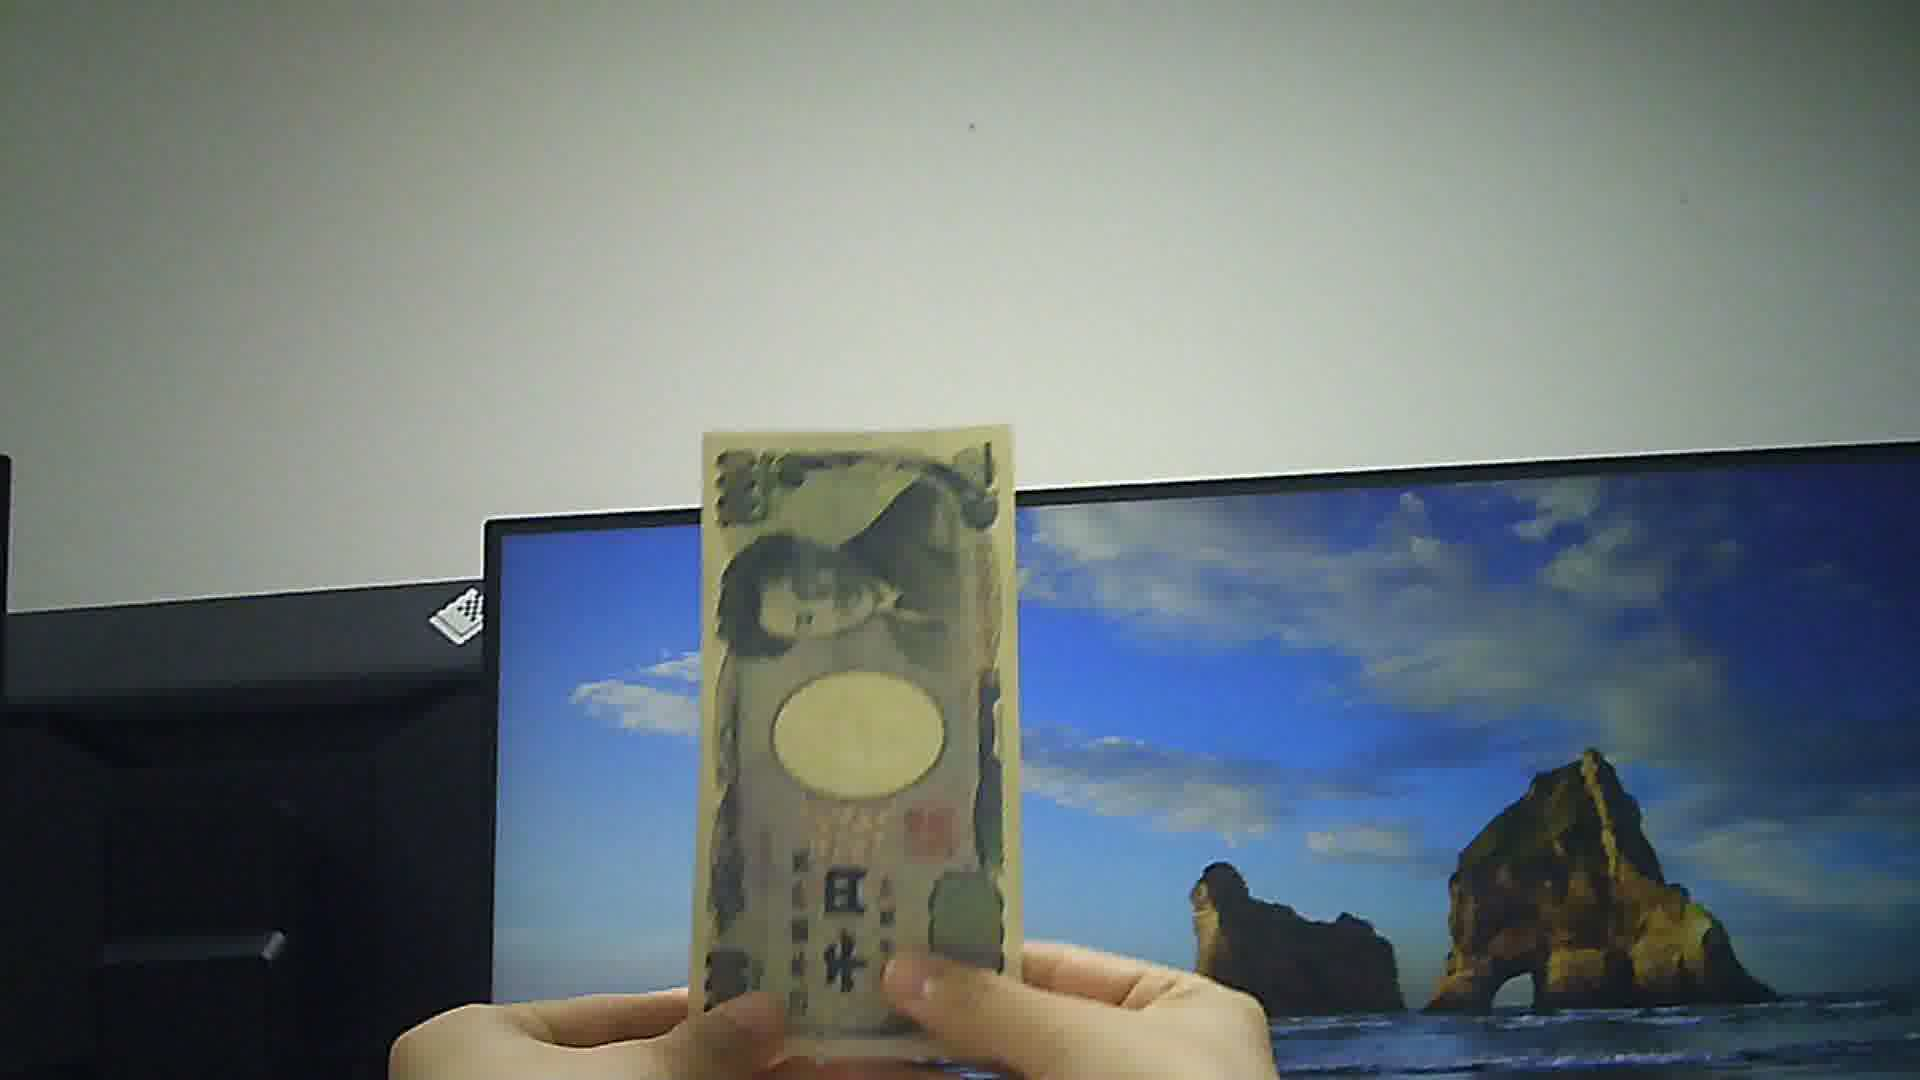1,000 Yen: (659, 401, 1044, 1042)
